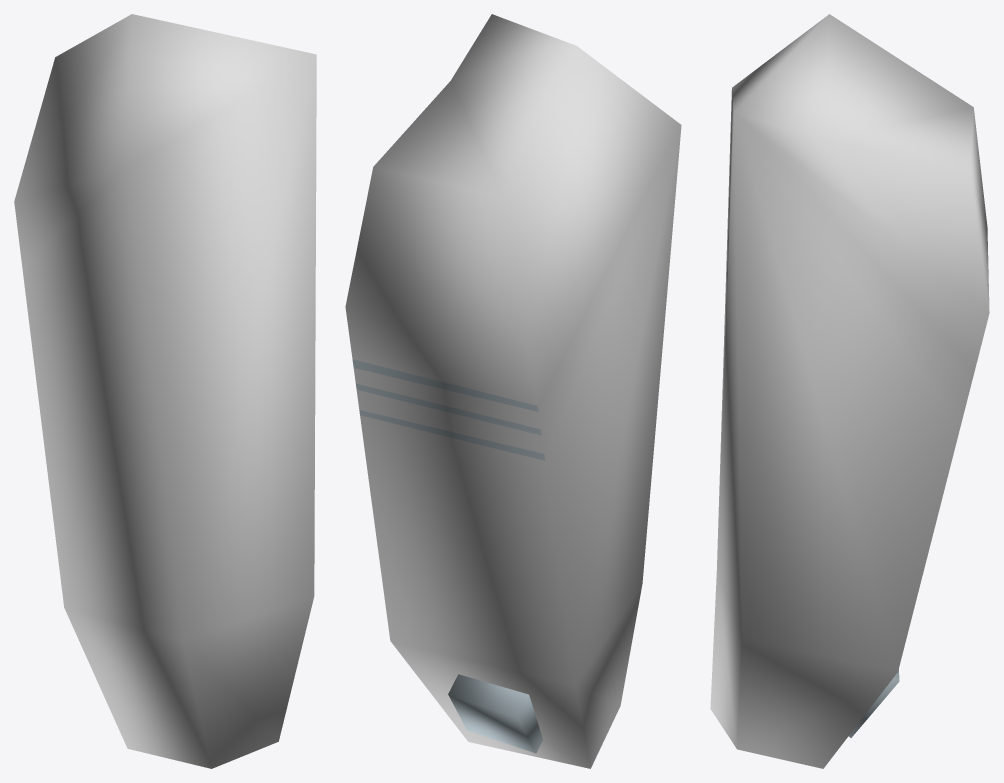
The model's file is thigh_left.gltf.
3 views of the same model, side by side, from view 1: azimuth 30°, elevation 25°; view 2: azimuth 150°, elevation 25°; view 3: azimuth 270°, elevation 25° (orthographic). The views are drawn at different scales.
Parts seen in each view (by area): view 1: group1825113648; view 2: group1825113648; view 3: group1825113648.
Boxes of the visible parts, <box> form: group1825113648: <box>14,14,316,768</box>; group1825113648: <box>345,14,681,768</box>; group1825113648: <box>710,14,989,768</box>.
Bounding box in the file's own units: 0.0642 × 0.2167 × 0.0781.
